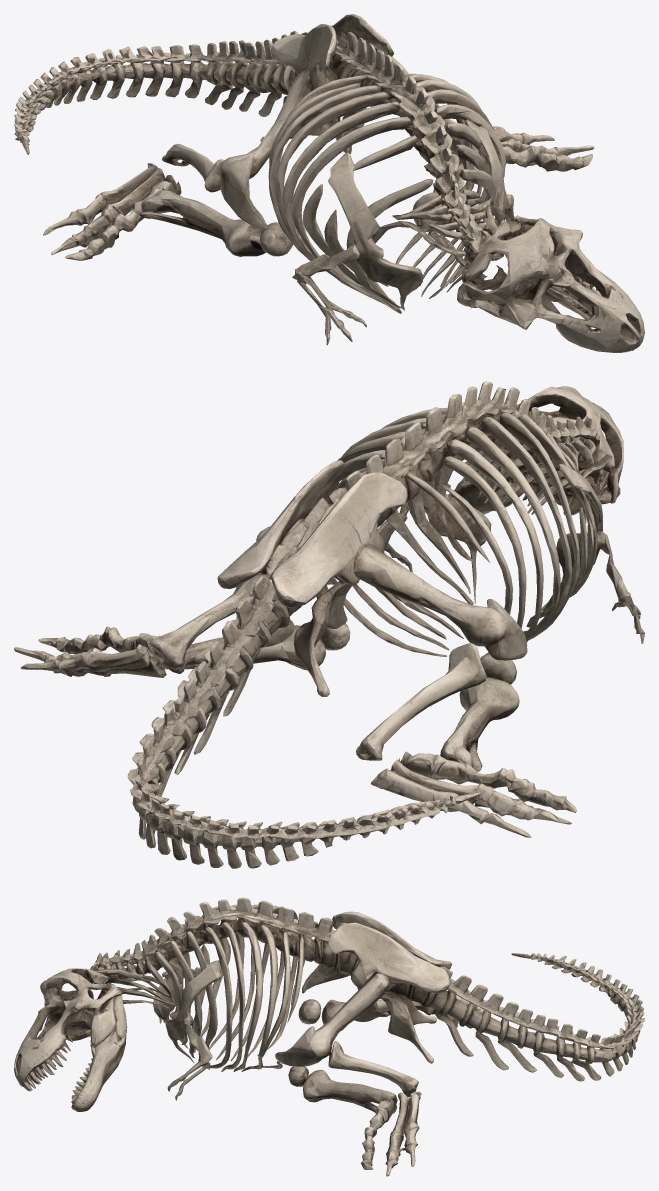
Rendered from sv_skeleton.glb.
3 views of the same model, one above another, from view 1: azimuth 30°, elevation 25°; view 2: azimuth 150°, elevation 25°; view 3: azimuth 270°, elevation 25° (orthographic). The views are drawn at different scales.
Size of the model in its own units: 1.36 by 0.5872 by 1.89.
1 material, 1 textured.
